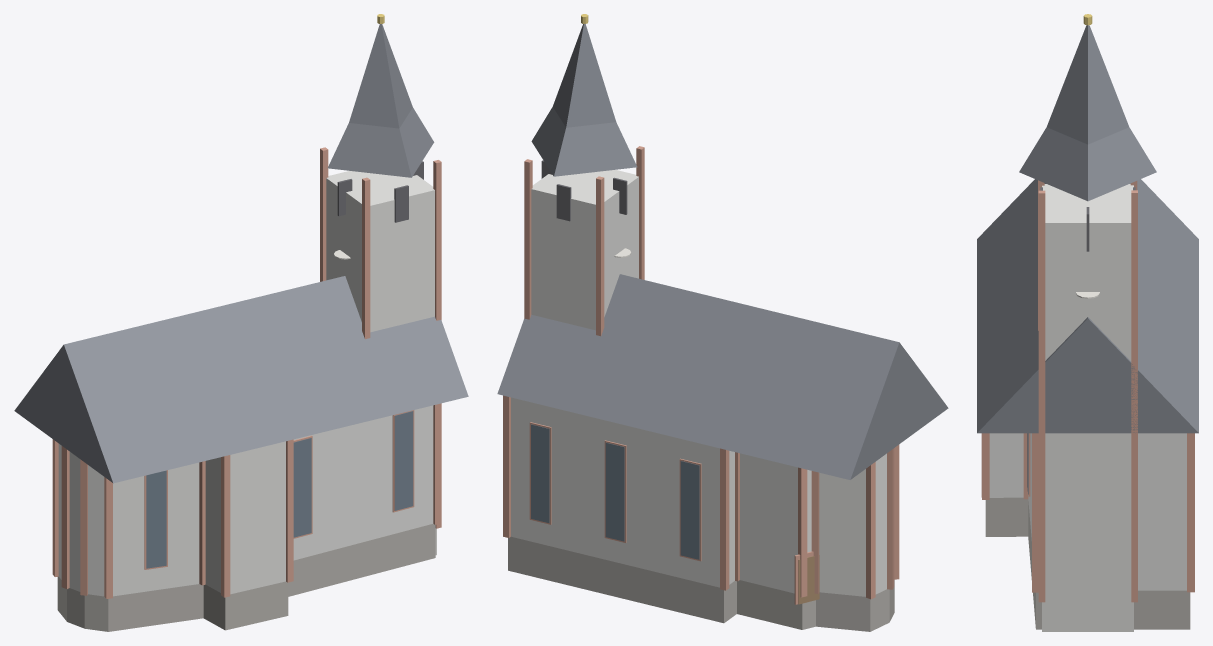
Rendered from church-431224179.glb.
3 renders of one model, left to right at view 1: azimuth 30°, elevation 25°; view 2: azimuth 150°, elevation 25°; view 3: azimuth 270°, elevation 25°, orthographic. The views are drawn at different scales.
Parts seen in each view (by area): view 1: building; view 2: building; view 3: building.
Boxes of the visible parts, x1,y1,x2,y2 form: building: (14,14,468,631); building: (497,14,948,631); building: (977,14,1198,631).
Bounding box in the file's own units: 27.74 × 38.15 × 12.85.
